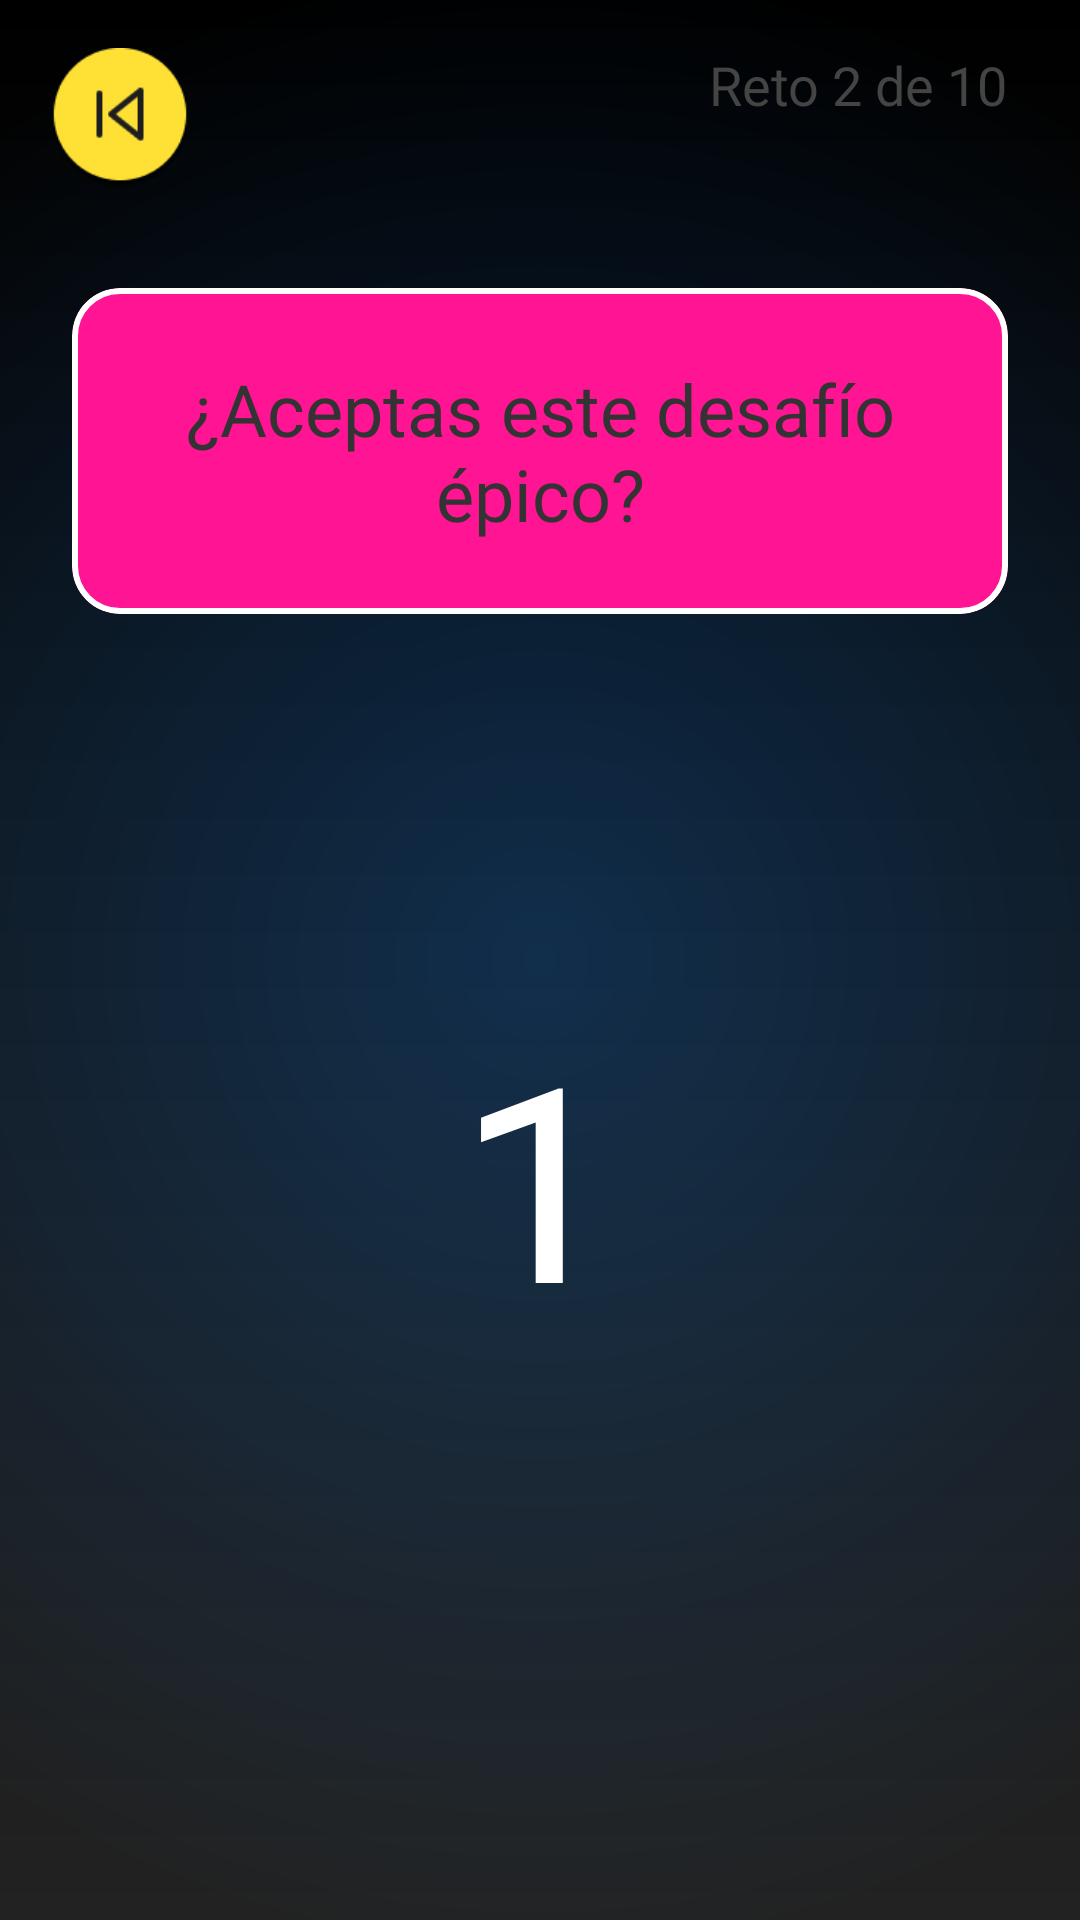

Point at icon controls on the screen. Image size 1080 x 1920, points as [x,y].
Botón de retroceso: [120,114]
